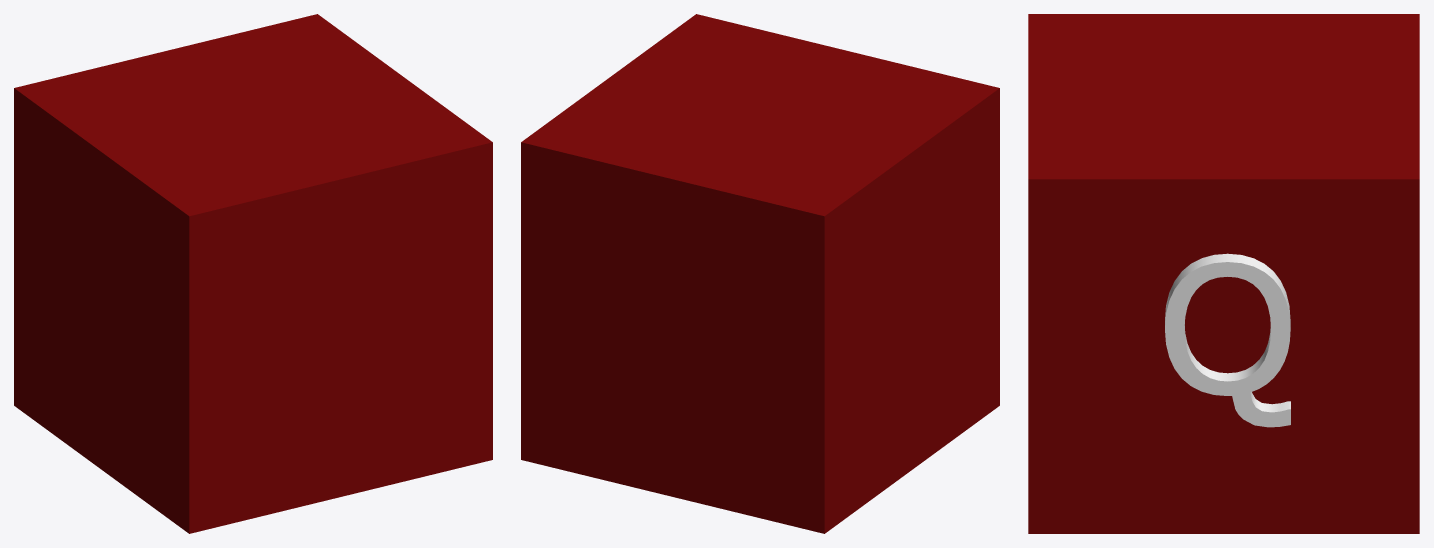
3 renders of one model, left to right at view 1: azimuth 30°, elevation 25°; view 2: azimuth 150°, elevation 25°; view 3: azimuth 270°, elevation 25°, orthographic. The views are drawn at different scales.
Parts seen in each view (by area): view 1: SketchUp; view 2: SketchUp; view 3: SketchUp, Q (×2).
Boxes of the visible parts, left/top/right/bottom form: SketchUp: left=14, top=14, right=492, bottom=533; SketchUp: left=521, top=14, right=999, bottom=533; SketchUp: left=1028, top=14, right=1419, bottom=533; Q (×2): left=1165, top=253, right=1290, bottom=427.
Bounding box in the file's own units: 21 × 20 × 20.
